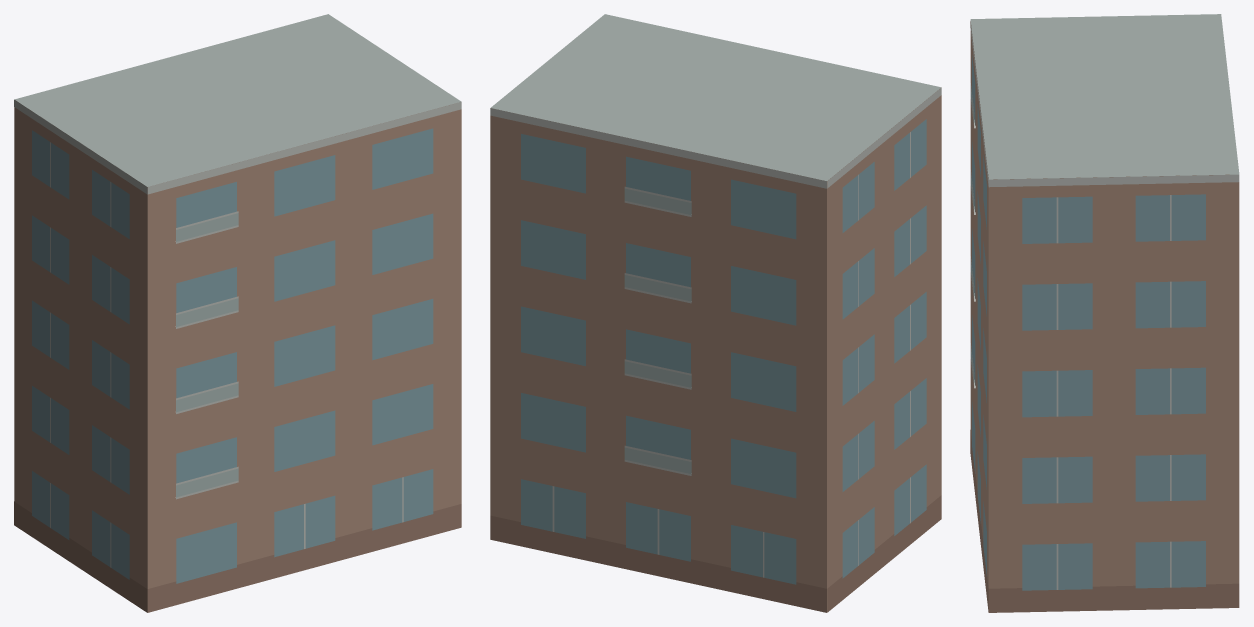
Rendered from survey-upis-32963482.glb.
3 views of the same model, side by side, from view 1: azimuth 30°, elevation 25°; view 2: azimuth 150°, elevation 25°; view 3: azimuth 270°, elevation 25° (orthographic).
Parts seen in each view (by area): view 1: survey-upis-32963482.tmp; view 2: survey-upis-32963482.tmp; view 3: survey-upis-32963482.tmp.
Boxes of the visible parts, <box> form: survey-upis-32963482.tmp: <box>14,14,461,612</box>; survey-upis-32963482.tmp: <box>490,14,941,612</box>; survey-upis-32963482.tmp: <box>970,14,1239,612</box>.
Bounding box in the file's own units: 11.36 × 13.85 × 7.8.
